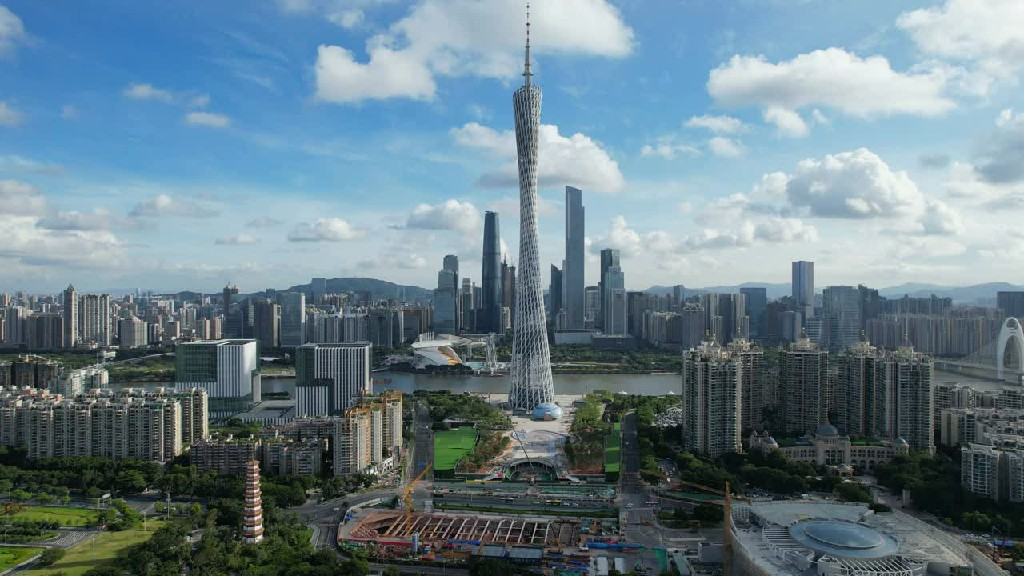Canton: (506, 2, 558, 418)
